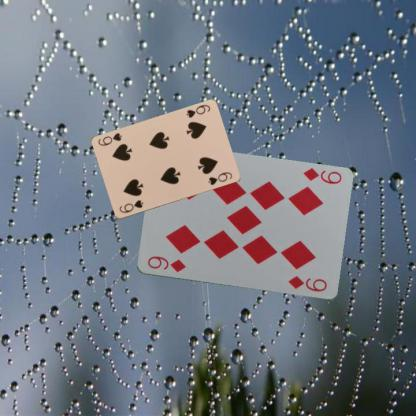6s: (184, 102, 211, 119), (117, 198, 144, 214)
9d: (144, 254, 186, 274), (300, 166, 342, 186)
